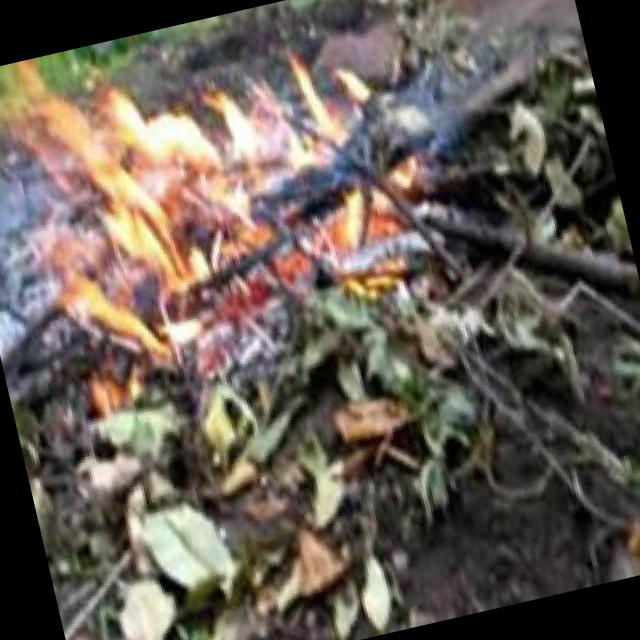Fire: (0, 3, 466, 391)
